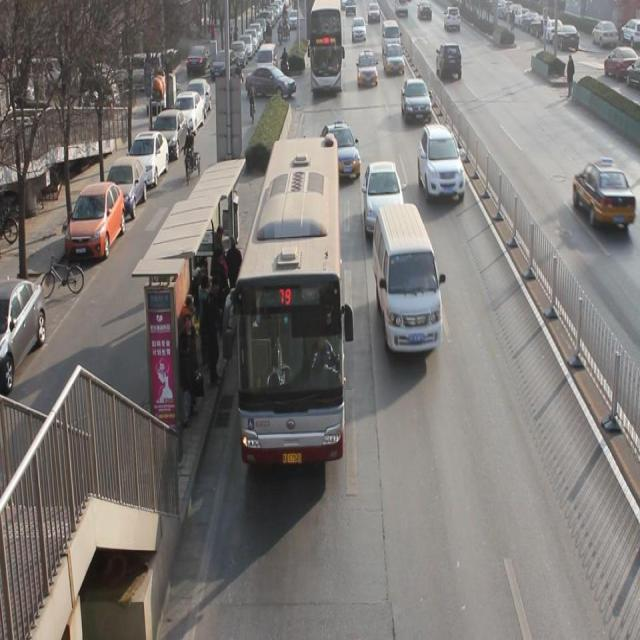car: (419, 126, 466, 204), (580, 160, 630, 230), (364, 163, 404, 228), (321, 123, 362, 183), (401, 80, 432, 124), (436, 43, 464, 84), (356, 51, 378, 88), (384, 44, 406, 73), (351, 18, 367, 46)
truck: (376, 210, 443, 358), (383, 20, 401, 58)
van: (233, 139, 344, 463), (308, 1, 340, 89)
